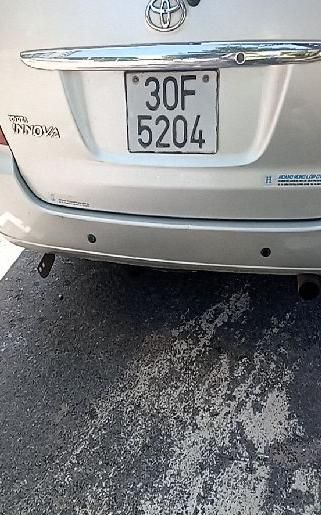Plate-iWeP: (120, 66, 223, 158)
